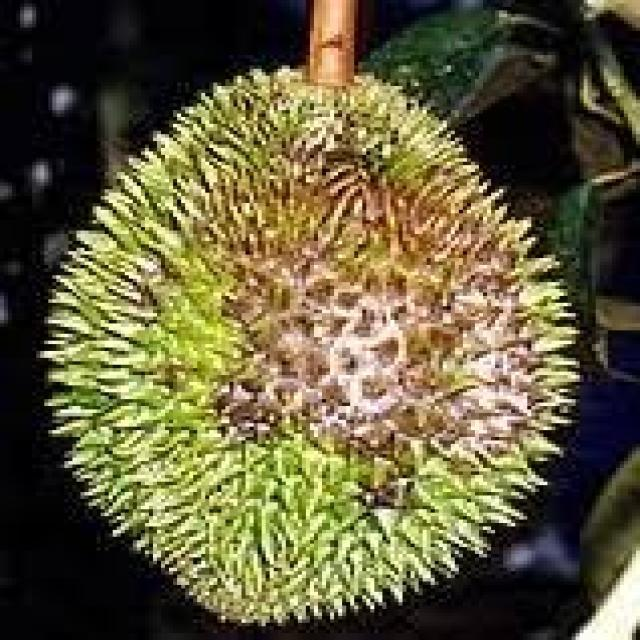defective: (46, 59, 589, 631)
